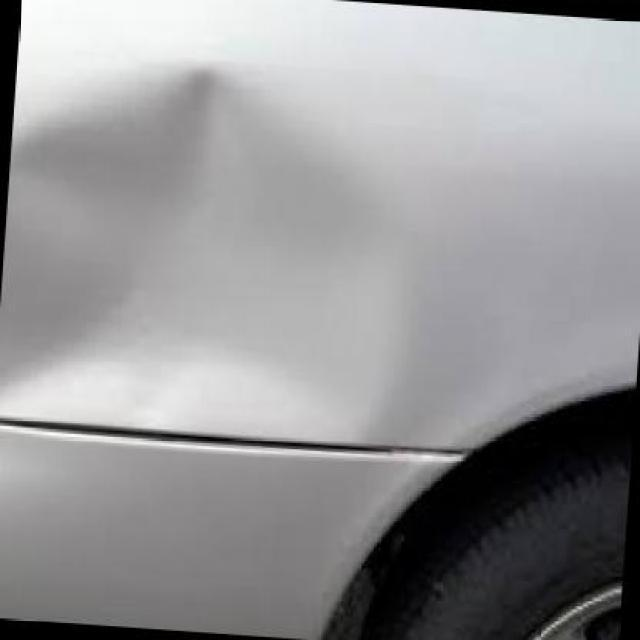dent: (5, 48, 388, 446)
